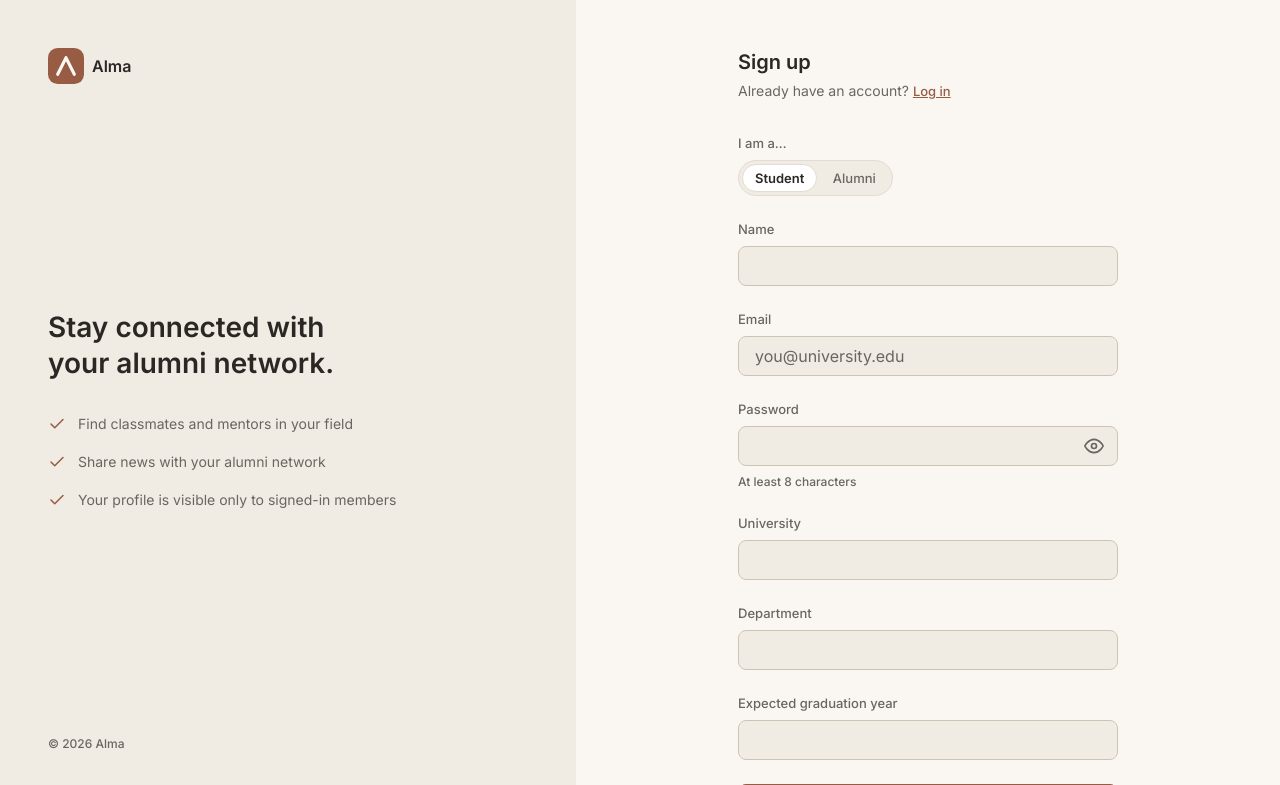
Test: RegisterPage › hides the student fields for Alumni and keeps their values for a switch back
Type "CSE" into the field labelled "Department".
click(928, 650); type("CSE")  # box top-left (738, 630), bottom-right (1118, 670)
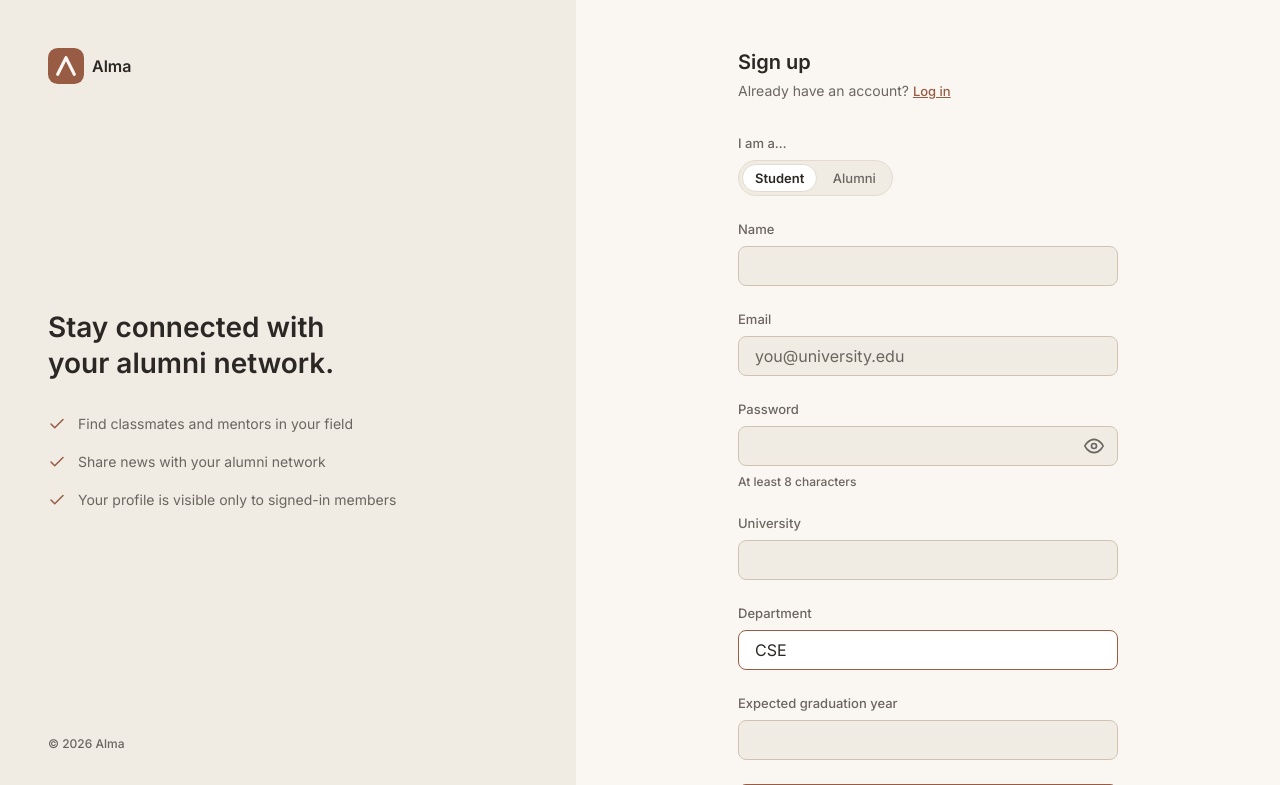
Click the radio button labelled "Alumni".
click(854, 178)  # box top-left (819, 164), bottom-right (889, 192)
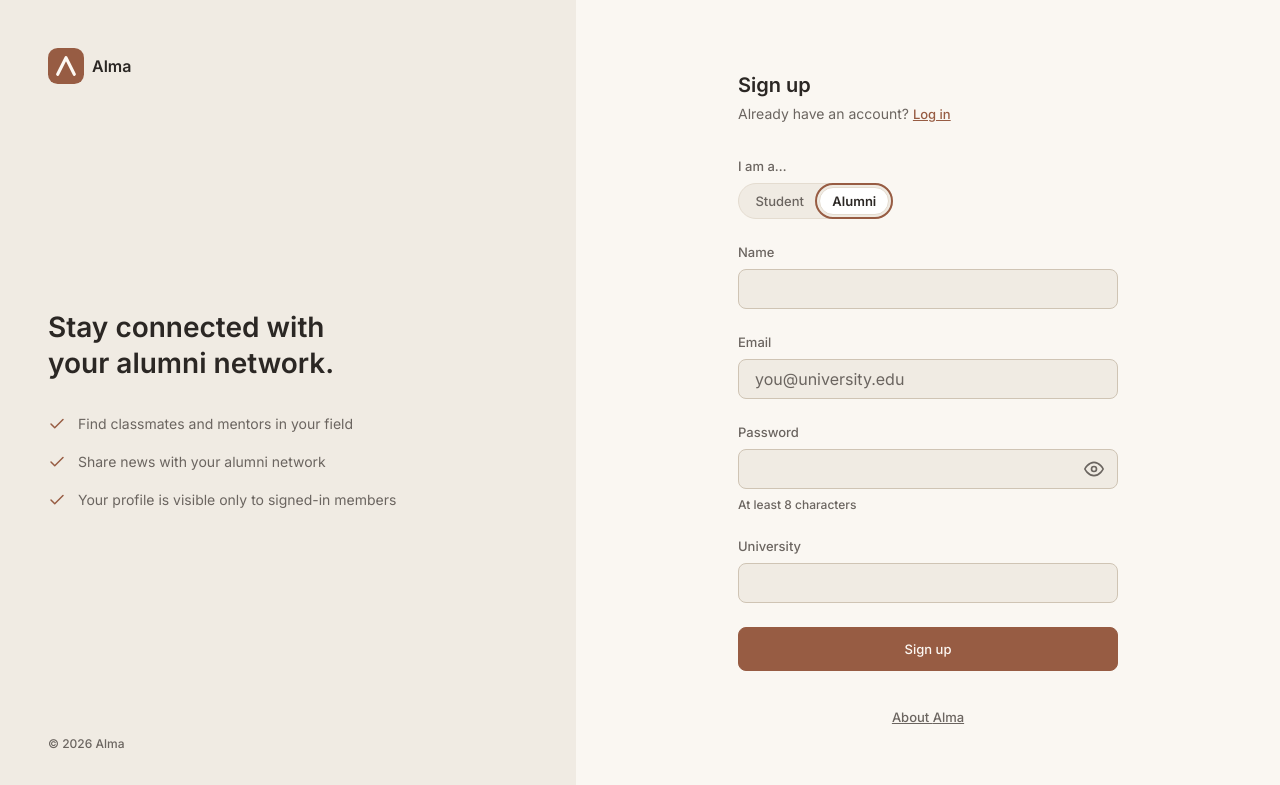
Expected: the label labelled "Department" is gone
Expected: the label labelled "Expected graduation year" is gone
Click the radio button labelled "Student".
click(780, 201)  # box top-left (742, 187), bottom-right (817, 215)
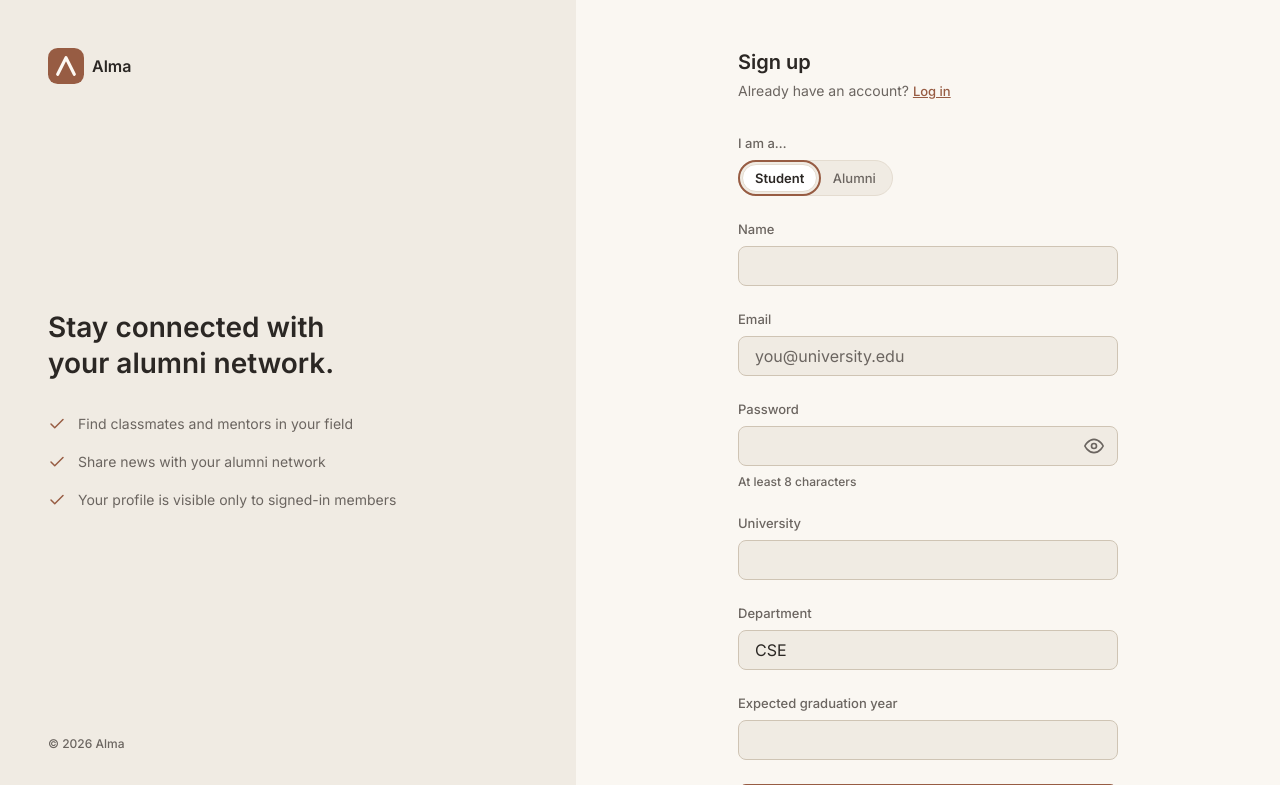
Expected: the field labelled "Department" holds "CSE", top-left (738, 630), bottom-right (1118, 670)
